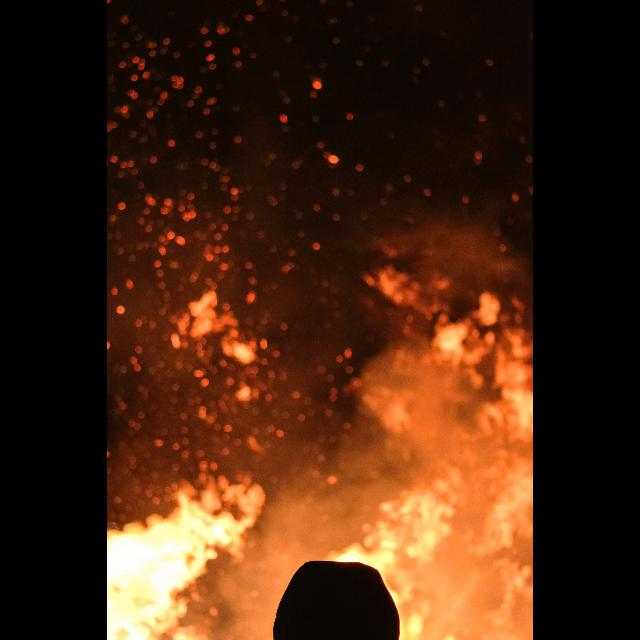fire: (107, 270, 534, 640)
